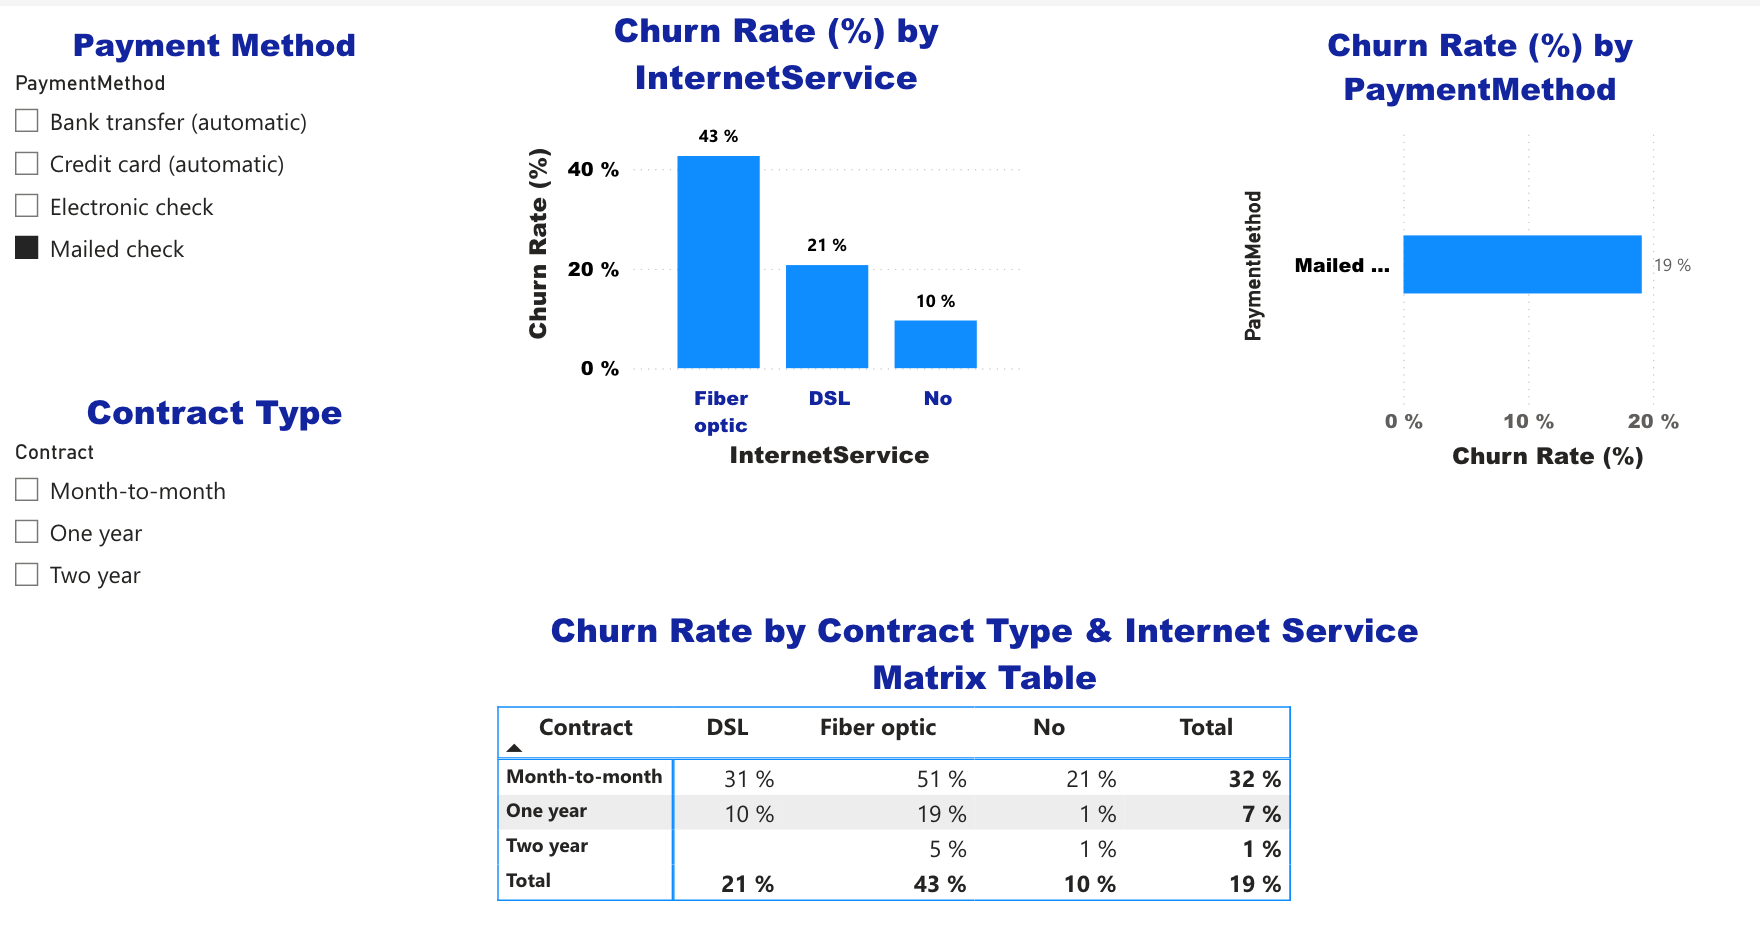

The dashboard page shown, as its layout file describes it:
{"tool":"powerbi","page":{"name":"Churn Segmentation Analysis","canvas":[1280,720],"ordinal":1},"visuals":[{"type":"columnChart","fields":{"Category":["Telco Customer Churn.InternetService"],"Y":["Telco Customer Churn.Churn Rate (%)"]},"box":[361,0,352.4,324.8],"z":0},{"type":"barChart","fields":{"Category":["Telco Customer Churn.PaymentMethod"],"Y":["Telco Customer Churn.Churn Rate (%)"]},"box":[851.6,10.4,338.6,314.4],"z":1000},{"type":"pivotTable","title":"Churn Rate by Contract Type &  Internet Service Matrix Table","fields":{"Rows":["Telco Customer Churn.Contract"],"Columns":["Telco Customer Churn.InternetService"],"Values":["Telco Customer Churn.Churn Rate (%)"]},"box":[340.3,412.8,680.6,247],"z":2000},{"type":"slicer","title":"Contract Type","fields":{"Values":["Telco Customer Churn.Contract"]},"box":[0,262.6,300.6,193.5],"z":3000},{"type":"slicer","title":"Payment Method","fields":{"Values":["Telco Customer Churn.PaymentMethod"]},"box":[0,10.4,300.6,221.1],"z":4000}]}

Visuals, with their boxes on the page's 1280x720 design canvas (x1, y1, x2, y2). These are canvas units, not pixel positions in the 1760x940 screenshot, which may show the page scaled, cropped or inside an application window:
columnChart - Telco Customer Churn.InternetService x Telco Customer Churn.Churn Rate (%): 361,0,713,325
barChart - Telco Customer Churn.PaymentMethod x Telco Customer Churn.Churn Rate (%): 852,10,1190,325
"Churn Rate by Contract Type &  Internet Service Matrix Table" pivotTable: 340,413,1021,660
"Contract Type" slicer: 0,263,301,456
"Payment Method" slicer: 0,10,301,232
